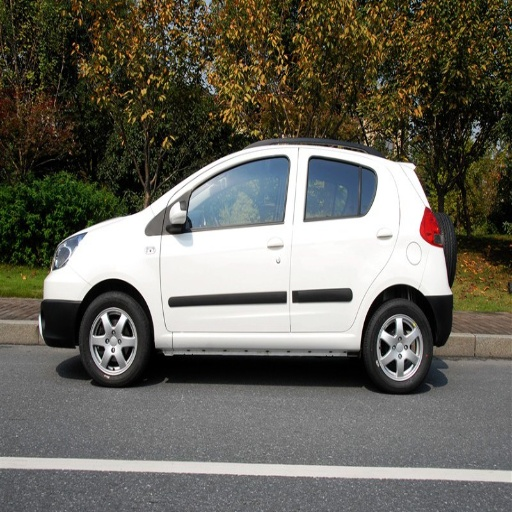back_left_door: (291, 148, 397, 334)
front_left_door: (160, 150, 297, 335)
